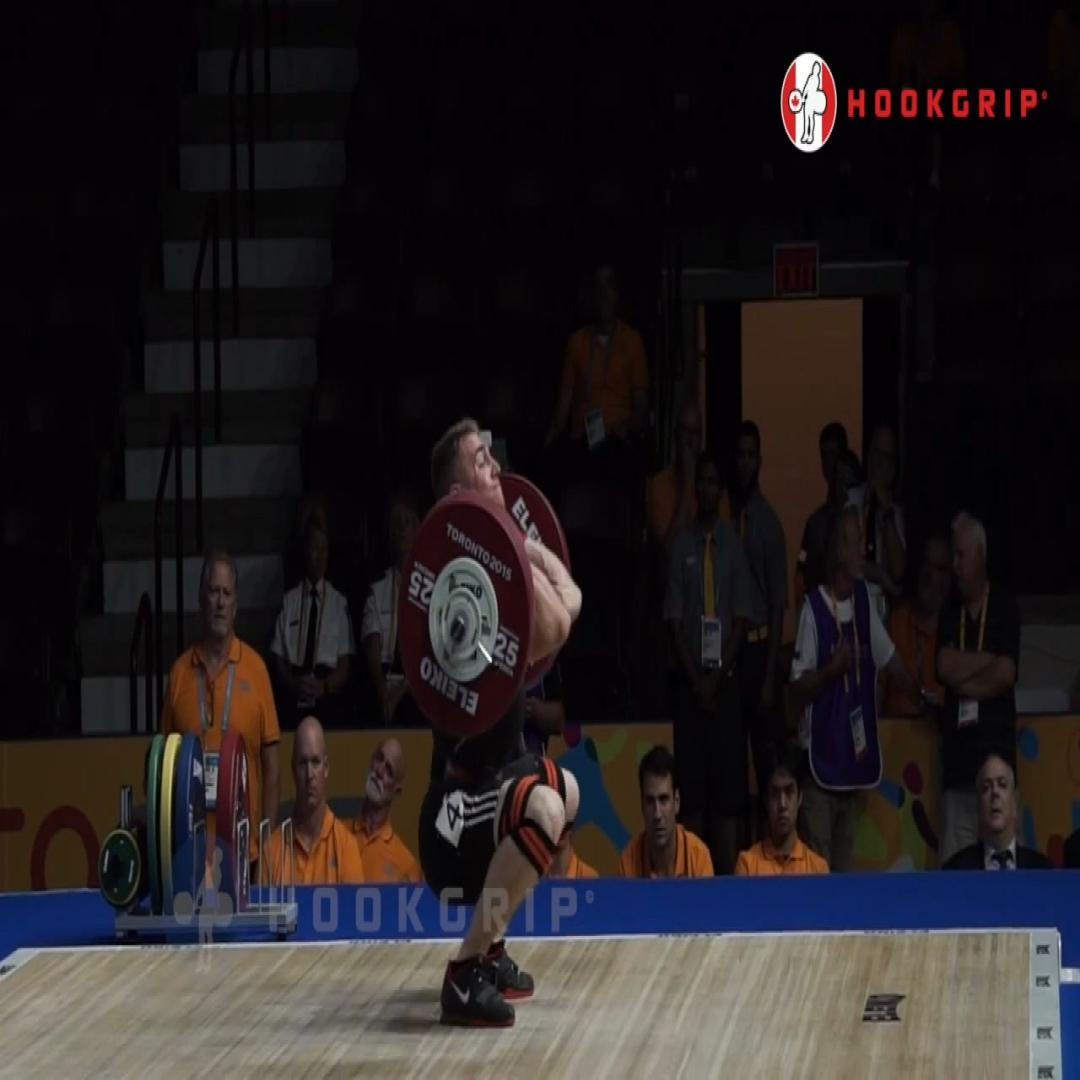Bar: (450, 614, 466, 644)
Barbell: (397, 502, 529, 738)
